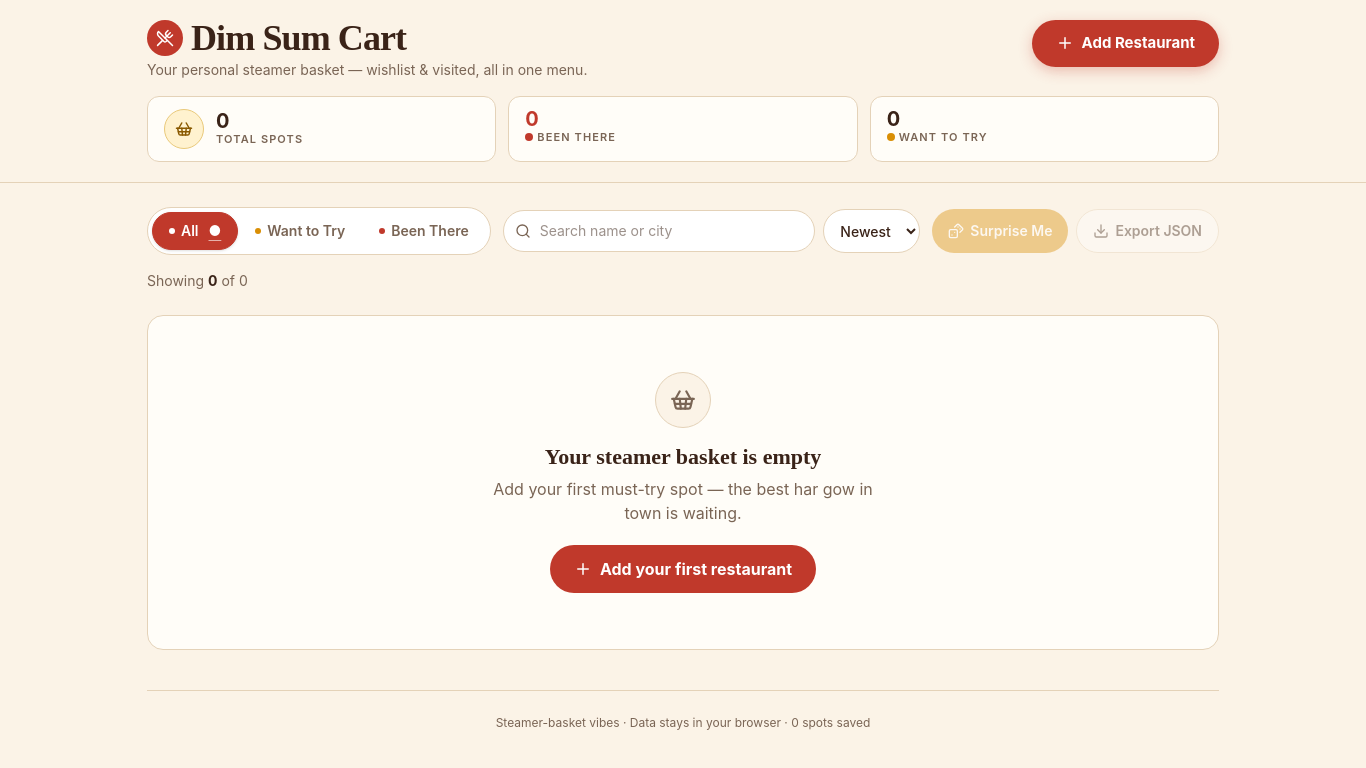
Test: RatingInput › exposes value to assistive tech
Click the button "Add Restaurant".
click(1125, 43)  # box [1032,20,1219,66]
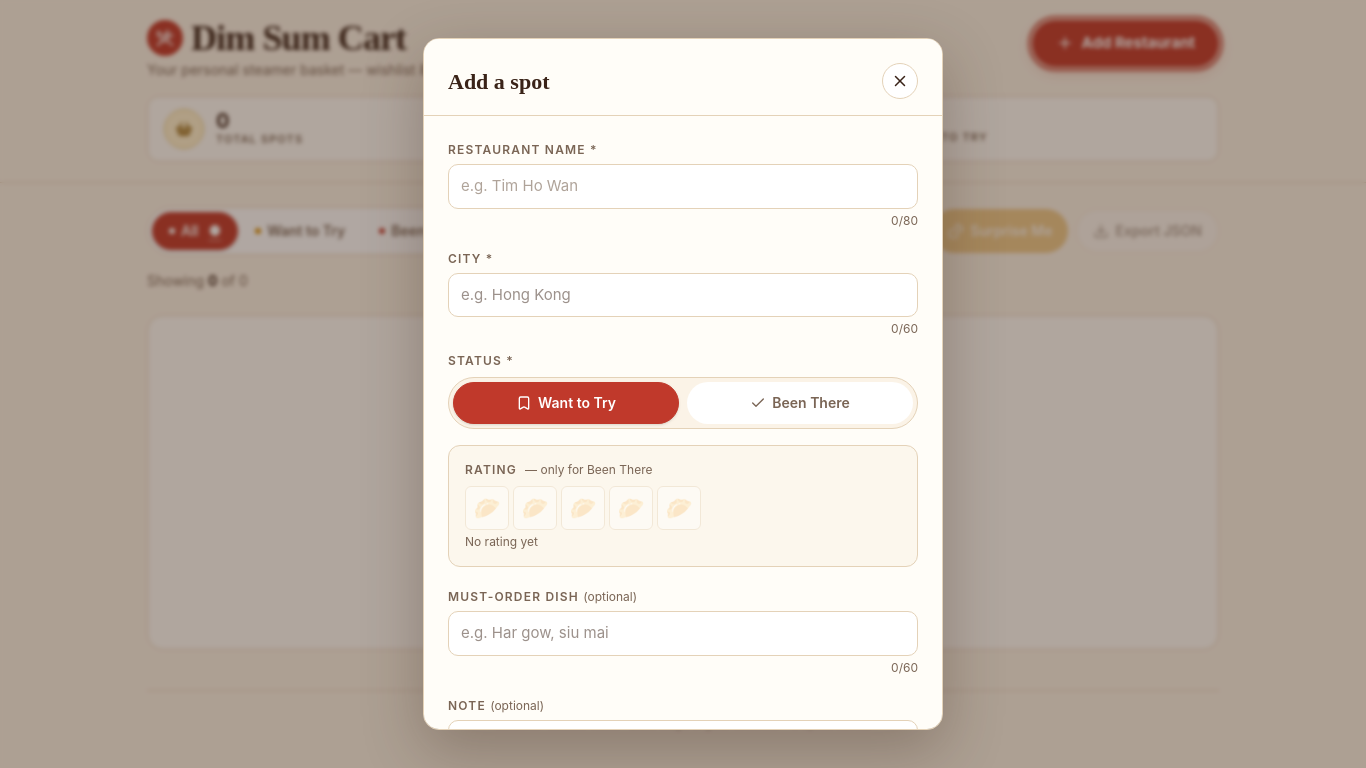
Click the button "Been There".
click(800, 403)  # box [687,382,913,424]
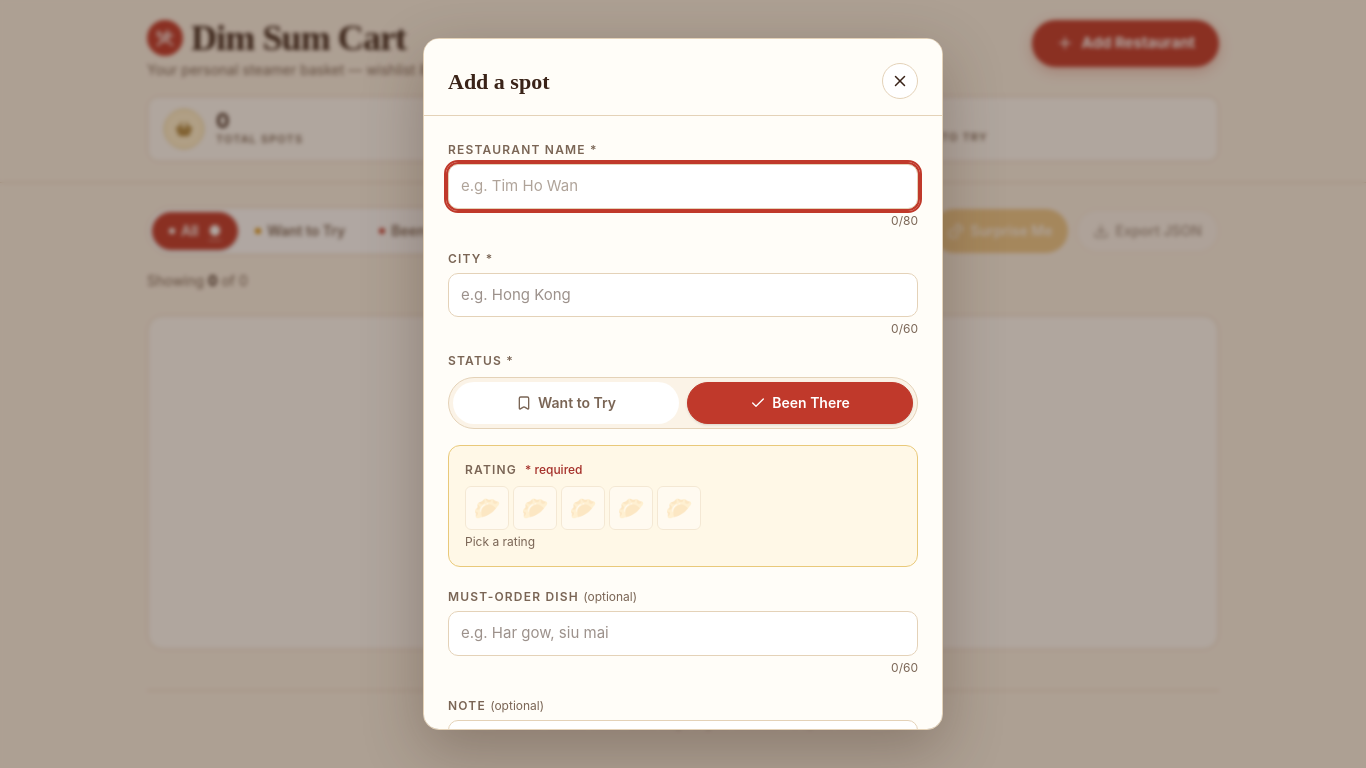
Click the radio button named "4 of 5 dumplings".
click(631, 508)  # box [609,486,653,530]
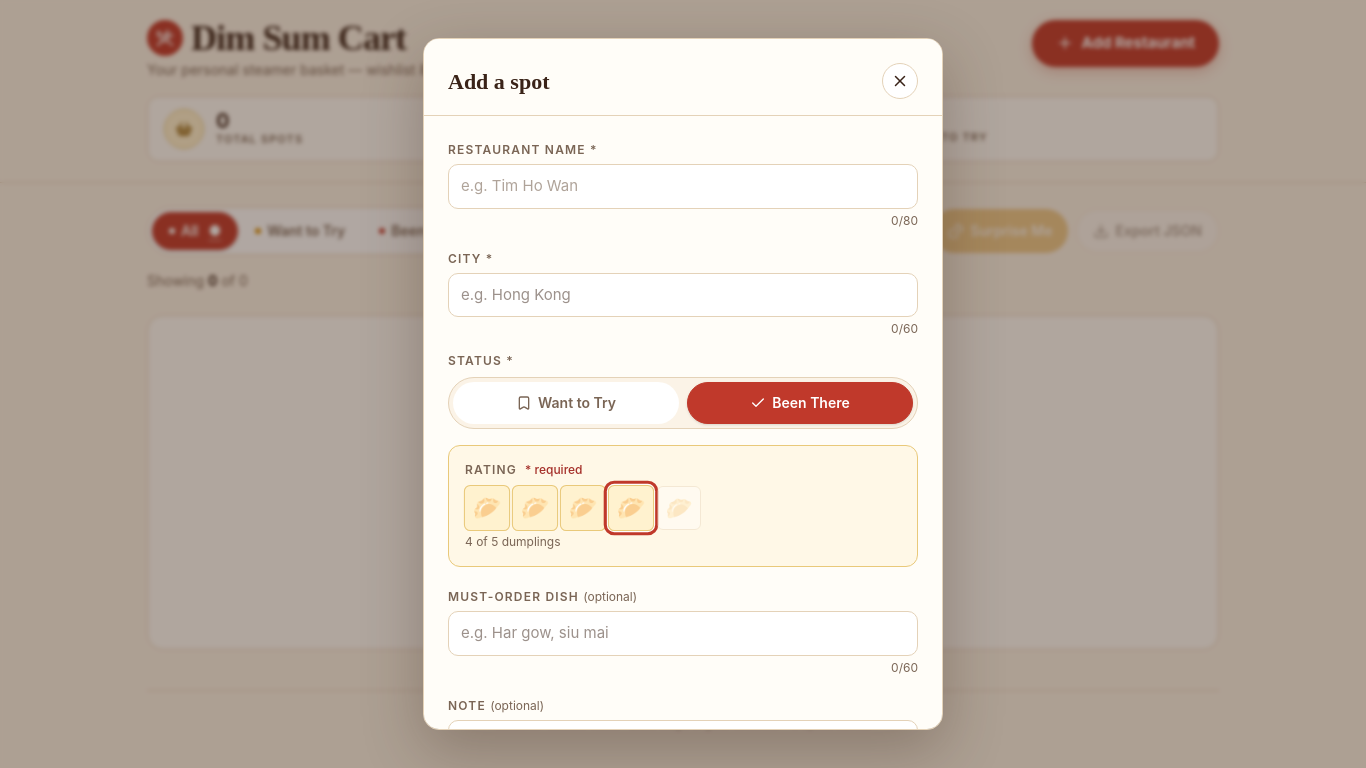
Expected: the text "4 of 5 dumplings" is shown, [465,534,560,549]
